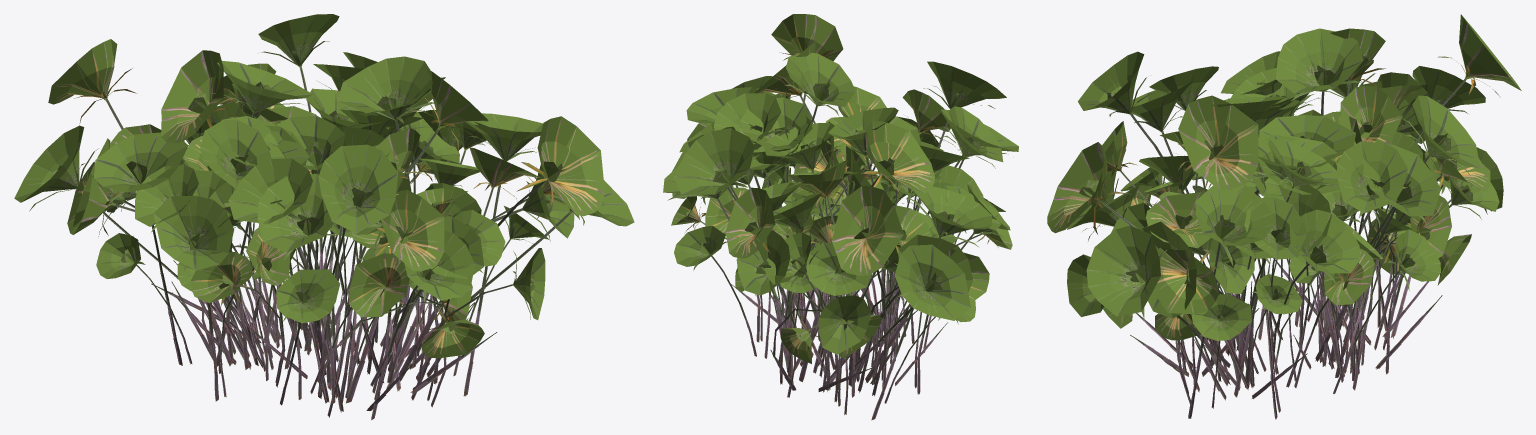
The model's file is Plant_papyrus003.fbx.
3 renders of one model, left to right at view 1: azimuth 30°, elevation 25°; view 2: azimuth 150°, elevation 25°; view 3: azimuth 270°, elevation 25°, orthographic. The views are drawn at different scales.
Parts seen in each view (by area): view 1: MeshPapyurs; view 2: MeshPapyurs; view 3: MeshPapyurs.
Boxes of the visible parts, x1,y1,x2,y2 form: MeshPapyurs: (14,14,634,420); MeshPapyurs: (663,14,1018,420); MeshPapyurs: (1047,14,1521,419).
Bounding box in the file's own units: 422 × 290 × 392.
